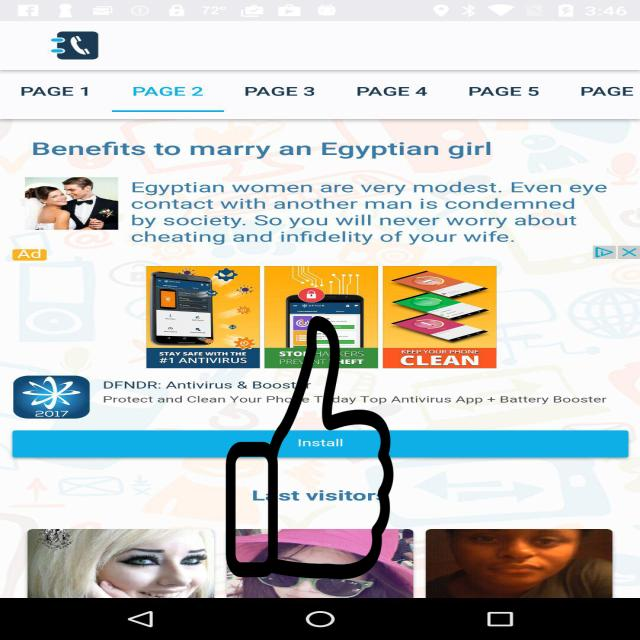privacy zuckering: (223, 316, 396, 579)
